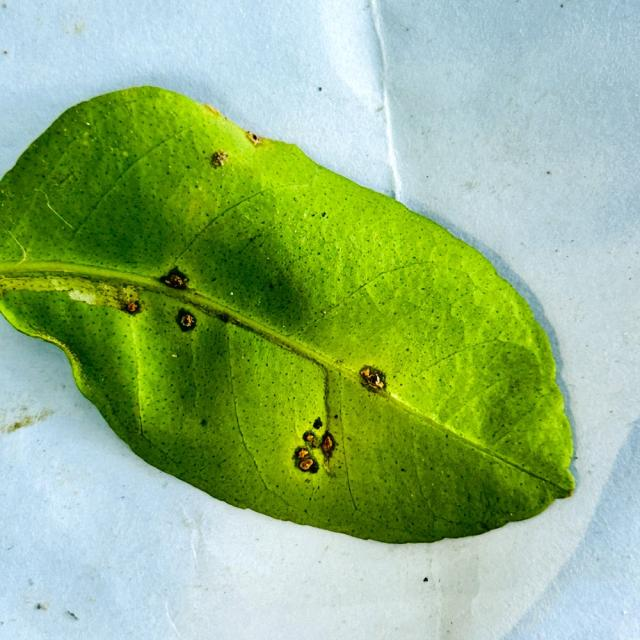Anthracnose: (353, 364, 393, 398), (293, 446, 318, 473), (162, 268, 189, 290), (176, 309, 197, 332), (121, 295, 144, 314), (319, 431, 336, 456), (210, 150, 229, 167), (246, 130, 262, 146), (303, 430, 317, 445)
Lemon: (0, 86, 577, 548)
